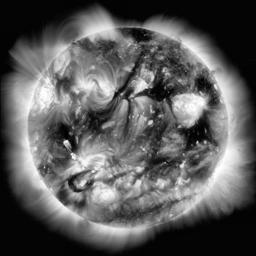solar flares: (169, 93, 203, 124), (97, 79, 120, 103), (90, 186, 115, 207), (37, 84, 56, 111), (72, 153, 100, 169), (75, 80, 92, 100)
sunspots: (184, 123, 210, 146), (51, 126, 73, 146), (128, 28, 151, 44), (67, 175, 84, 196), (199, 80, 214, 103), (154, 80, 168, 100), (90, 113, 102, 129), (149, 155, 163, 166), (157, 120, 161, 145)
